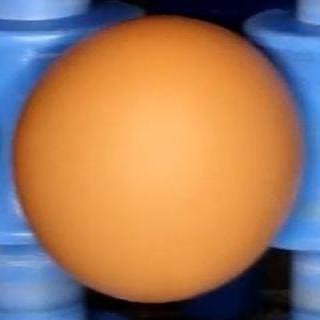Telur: (12, 15, 308, 304)
